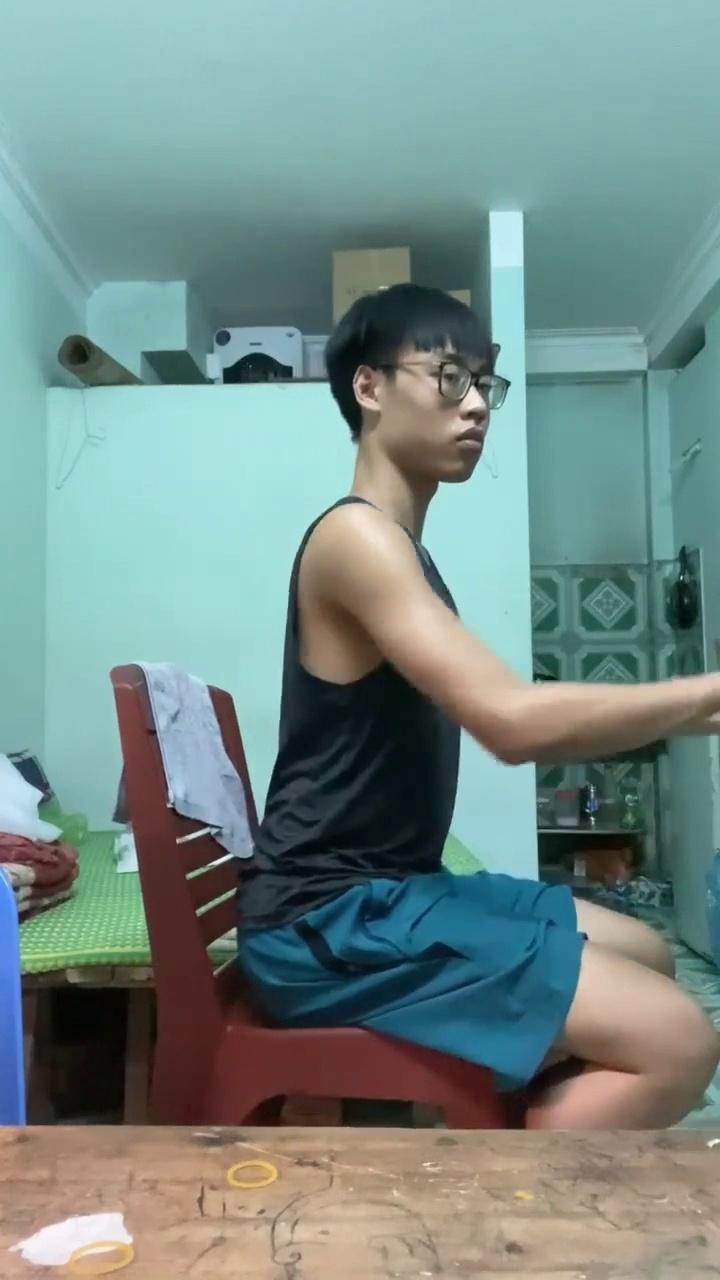GoodPosture: (239, 283, 719, 1129)
